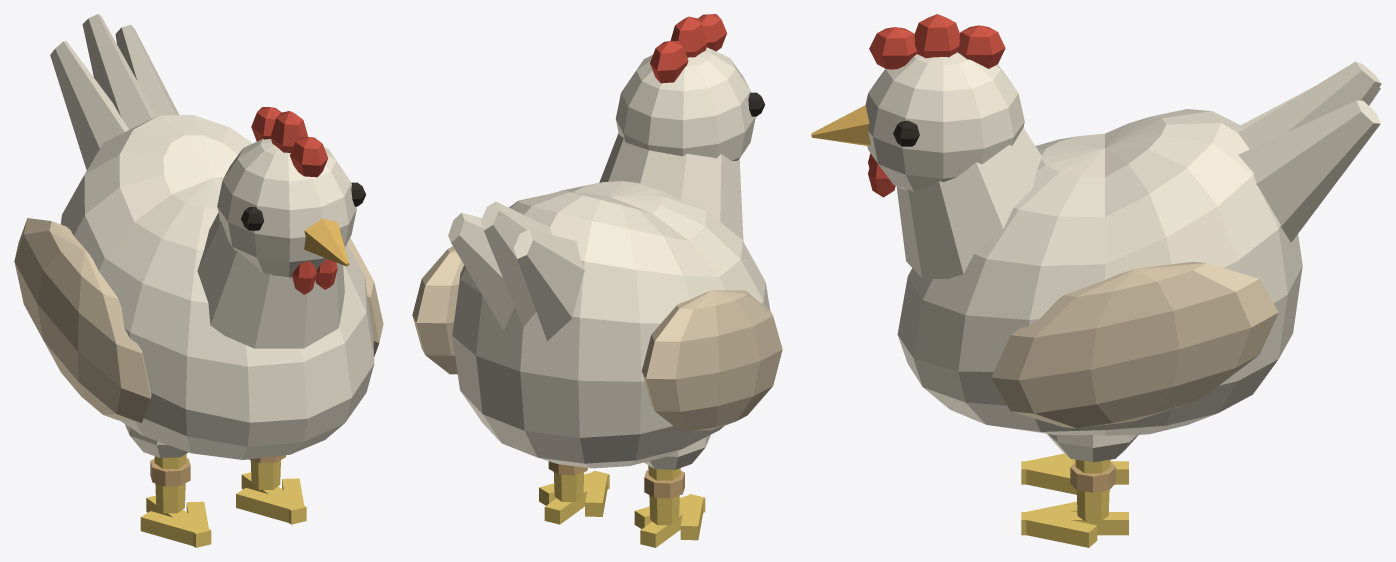
The model's file is cr-hen.glb.
3 renders of one model, left to right at view 1: azimuth 30°, elevation 25°; view 2: azimuth 150°, elevation 25°; view 3: azimuth 270°, elevation 25°, orthographic. The views are drawn at different scales.
Visible parts, largest first — view 1: body, wing_r, head, neck, tail, comb, foot_r, foot_l, beak, leg_r, wattle, wing_l (+3 smaller); view 2: body, wing_r, tail, head, neck, wing_l, comb, foot_r, foot_l, leg_r, thigh_r, band_r (+1 smaller); view 3: body, wing_l, head, tail, neck, comb, foot_l, foot_r, thigh_l, beak, leg_l, band_l.
Part boxes in pixels (x1,y1,x2,y2): body: (60,115,374,459); wing_r: (14,218,151,423); head: (217,139,356,279); neck: (197,213,344,348); tail: (50,14,179,170); comb: (251,107,327,177); foot_r: (140,495,211,547); foot_l: (236,472,306,524); beak: (304,219,349,266); leg_r: (154,454,186,513); wattle: (292,259,337,294); wing_l: (347,237,383,356); body: (452,181,770,468); wing_r: (642,290,782,430); tail: (448,201,584,340); head: (615,47,755,160); neck: (599,133,743,241); wing_l: (412,246,463,374); comb: (650,14,726,83); foot_r: (634,494,705,547); foot_l: (539,470,609,524); leg_r: (648,465,680,525); thigh_r: (644,434,710,469); band_r: (644,470,684,498); body: (897,109,1302,435); wing_l: (991,261,1278,428); head: (865,52,1024,191); tail: (1238,61,1381,242); neck: (896,128,1041,279); comb: (869,14,1005,69); foot_l: (1021,501,1128,547); foot_r: (1021,453,1128,494); thigh_l: (1046,433,1138,462); beak: (811,105,870,145); leg_l: (1075,459,1110,521); band_l: (1070,462,1115,492).
Size of what is drawn, in the model's own units: 0.2971 by 0.453 by 0.4763.
